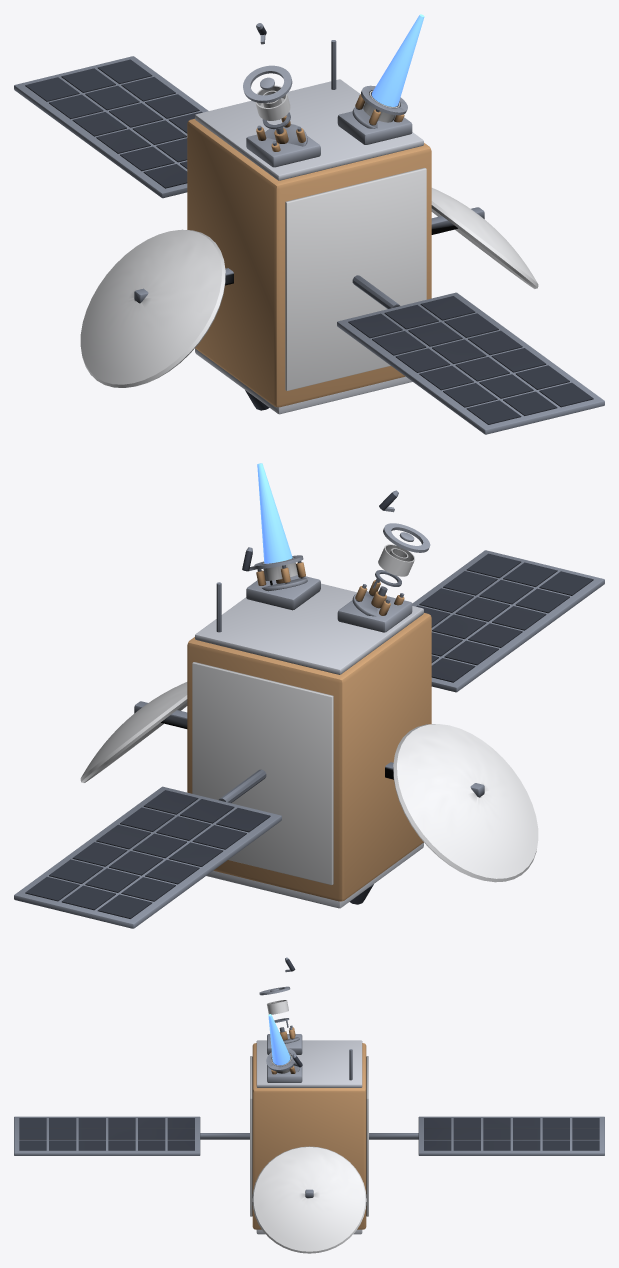
Rendered from telecom-satellite.detail.glb.
The picture shows the model from 3 angles, top to bottom: view 1: azimuth 30°, elevation 25°; view 2: azimuth 150°, elevation 25°; view 3: azimuth 270°, elevation 25°; orthographic projection. The views are drawn at different scales.
Visible parts, largest first — view 1: telecom-satellite.white, telecom-satellite.warm, telecom-satellite.graphite, telecom-satellite.metal, telecom-satellite.light, telecom-satellite.mid, telecom-satellite.emissive, telecom-satellite.poles.mid, telecom-satellite.channel.white; view 2: telecom-satellite.white, telecom-satellite.warm, telecom-satellite.graphite, telecom-satellite.metal, telecom-satellite.light, telecom-satellite.mid, telecom-satellite.emissive, telecom-satellite.channel.white, telecom-satellite.poles.mid; view 3: telecom-satellite.graphite, telecom-satellite.white, telecom-satellite.warm, telecom-satellite.metal, telecom-satellite.light, telecom-satellite.mid, telecom-satellite.emissive.
Part boxes in pixels (<box>): telecom-satellite.white: <box>80,90,538,390</box>; telecom-satellite.warm: <box>187,94,431,407</box>; telecom-satellite.graphite: <box>25,59,593,424</box>; telecom-satellite.metal: <box>14,40,604,434</box>; telecom-satellite.light: <box>195,79,423,414</box>; telecom-satellite.mid: <box>246,85,412,167</box>; telecom-satellite.emissive: <box>371,14,424,106</box>; telecom-satellite.poles.mid: <box>243,65,292,102</box>; telecom-satellite.channel.white: <box>255,85,290,120</box>; telecom-satellite.white: <box>80,557,538,885</box>; telecom-satellite.warm: <box>187,562,431,901</box>; telecom-satellite.graphite: <box>25,551,593,918</box>; telecom-satellite.metal: <box>14,547,604,928</box>; telecom-satellite.light: <box>195,583,423,908</box>; telecom-satellite.mid: <box>246,555,412,632</box>; telecom-satellite.emissive: <box>257,463,292,563</box>; telecom-satellite.channel.white: <box>378,544,414,576</box>; telecom-satellite.poles.mid: <box>383,523,430,552</box>; telecom-satellite.graphite: <box>19,1056,599,1150</box>; telecom-satellite.white: <box>250,1053,368,1253</box>; telecom-satellite.warm: <box>252,1043,366,1229</box>; telecom-satellite.metal: <box>14,1049,604,1197</box>; telecom-satellite.light: <box>256,1040,362,1234</box>; telecom-satellite.mid: <box>266,1034,302,1082</box>; telecom-satellite.emissive: <box>268,1014,290,1065</box>.
Bounding box in the file's own units: 1.49 × 1.35 × 2.85.
